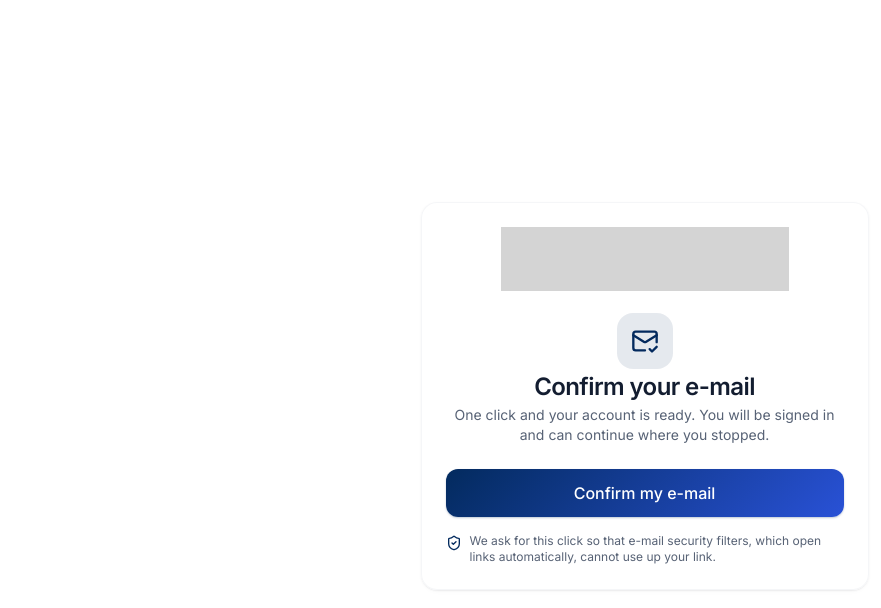
Scenario: confirm page (scanner-safe link) › does not use the link on page load; only the button confirms
Click the button "Confirm my e-mail": (644, 493) [446, 469, 844, 517]
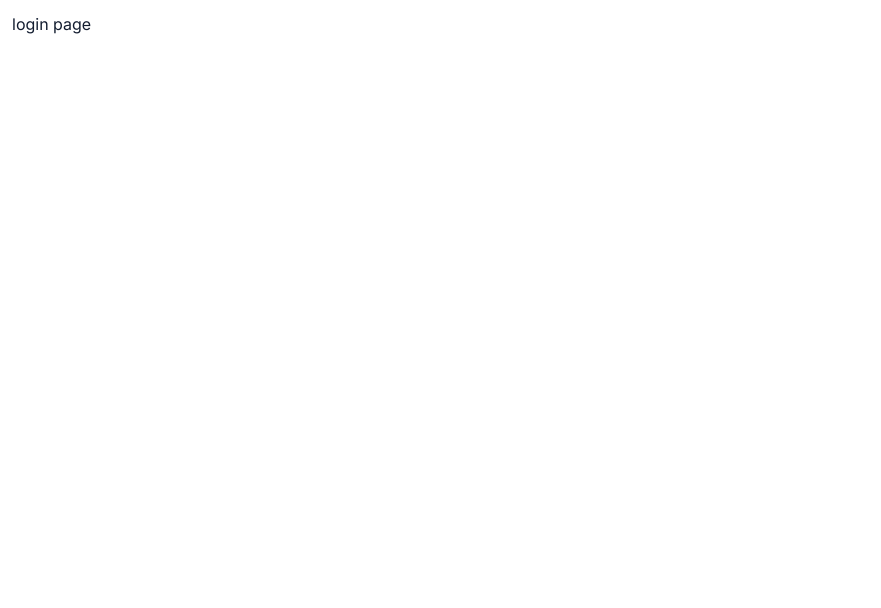
Expected: the text "login page" is shown, [12, 14, 91, 34]
